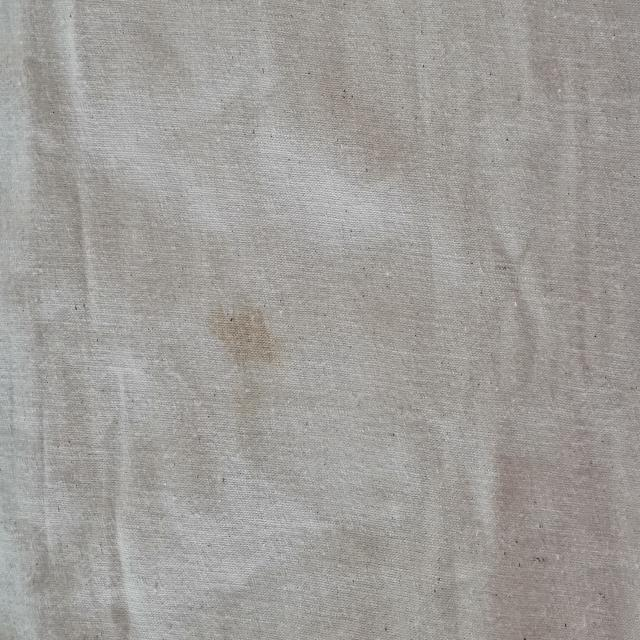taaaches: (206, 276, 280, 386)
